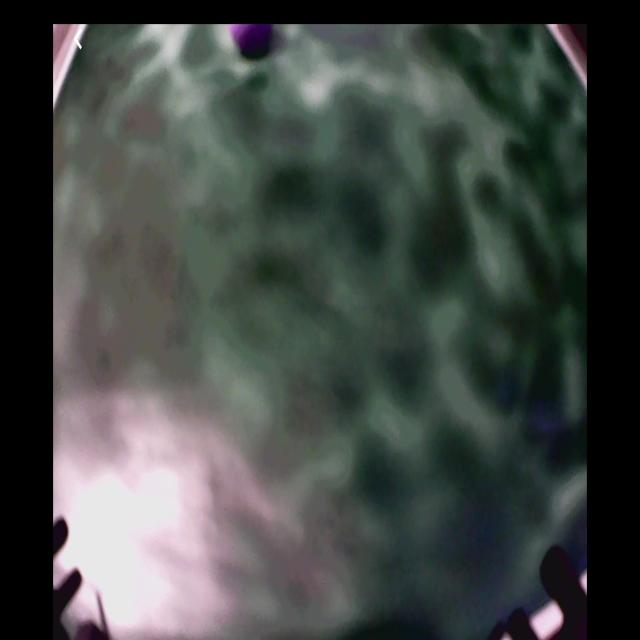ball: (234, 25, 277, 61)
